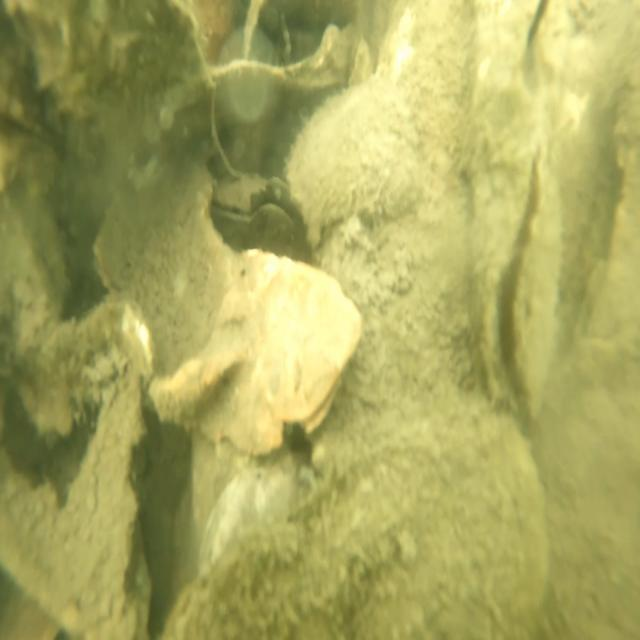Oyster-Closed: (150, 253, 362, 461)
Oyster-Indeterminate: (160, 406, 546, 640), (287, 0, 474, 226)
Oyster-Open: (471, 132, 562, 430), (206, 169, 301, 234)
